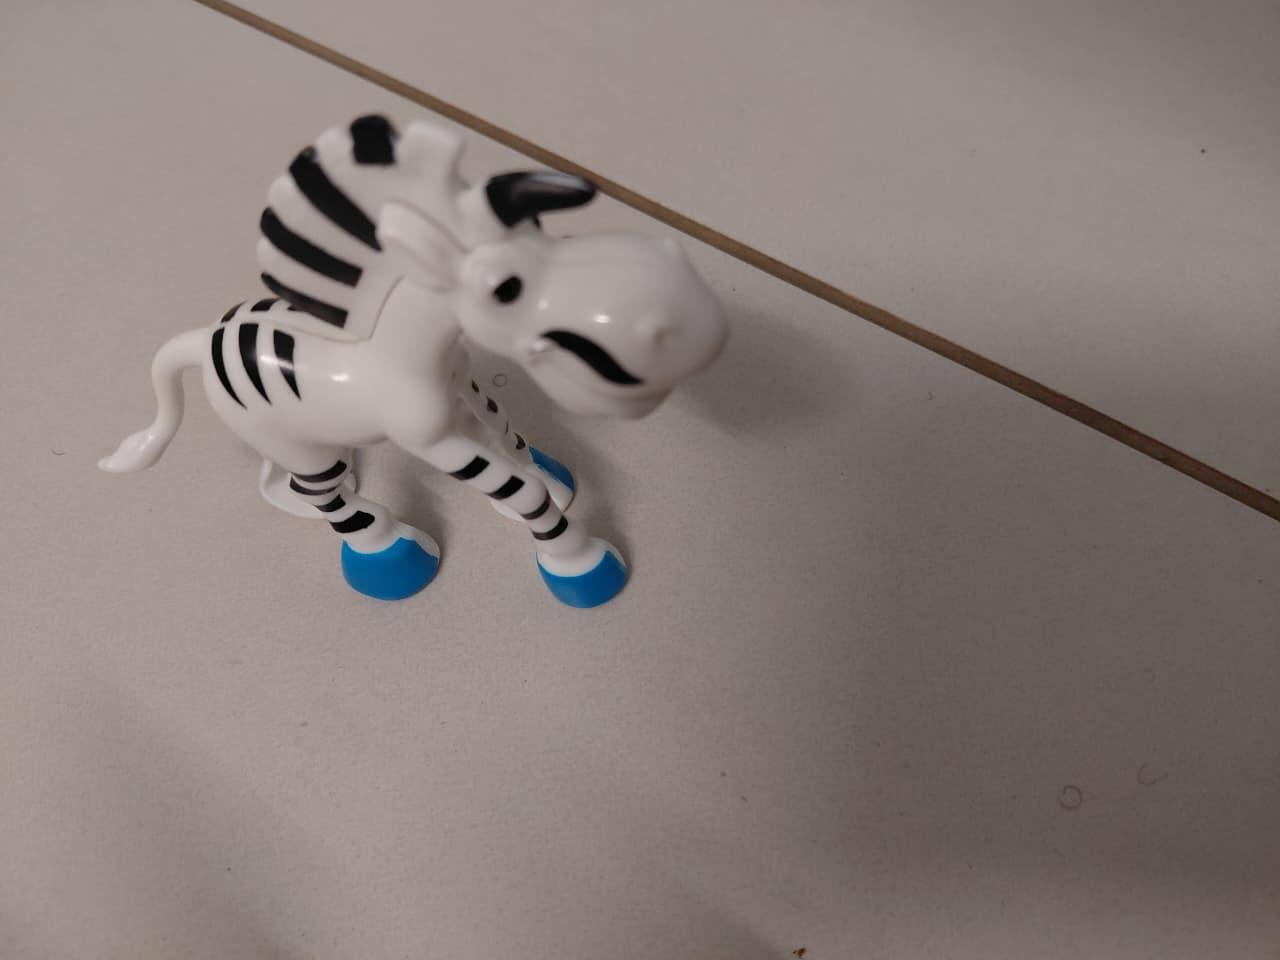zebra: (30, 87, 869, 665)
